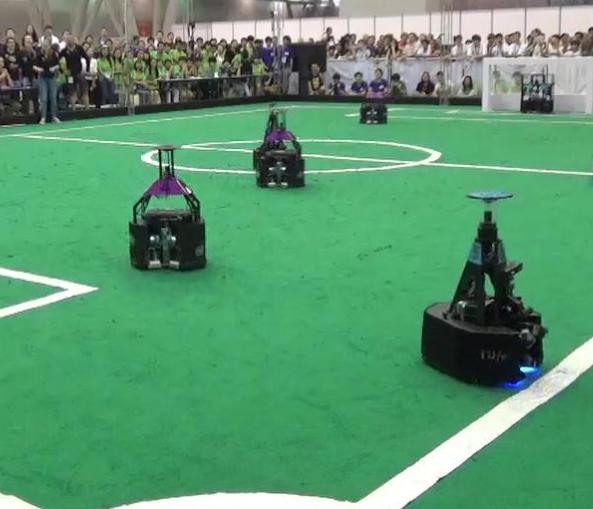robot: (415, 185, 551, 391), (124, 141, 212, 277), (251, 105, 308, 190)
